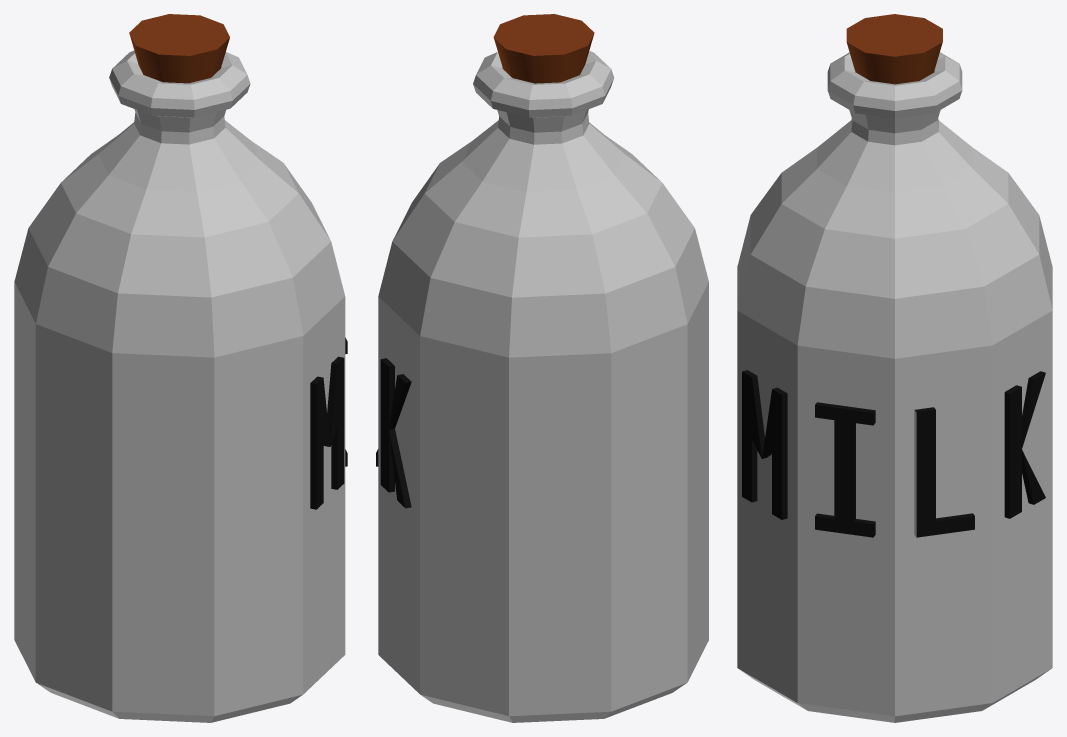
Rendered from Bouteille de lait#1.FBX.
The picture shows the model from 3 angles, left to right: view 1: azimuth 30°, elevation 25°; view 2: azimuth 150°, elevation 25°; view 3: azimuth 270°, elevation 25°; orthographic projection.
Parts seen in each view (by area): view 1: Bouteille; view 2: Bouteille; view 3: Bouteille.
Part boxes in pixels (bbox=[...]): Bouteille: bbox=[14, 14, 347, 722]; Bouteille: bbox=[376, 14, 708, 722]; Bouteille: bbox=[737, 14, 1052, 722].
Bounding box in the file's own units: 14.82 × 30.81 × 14.09.
